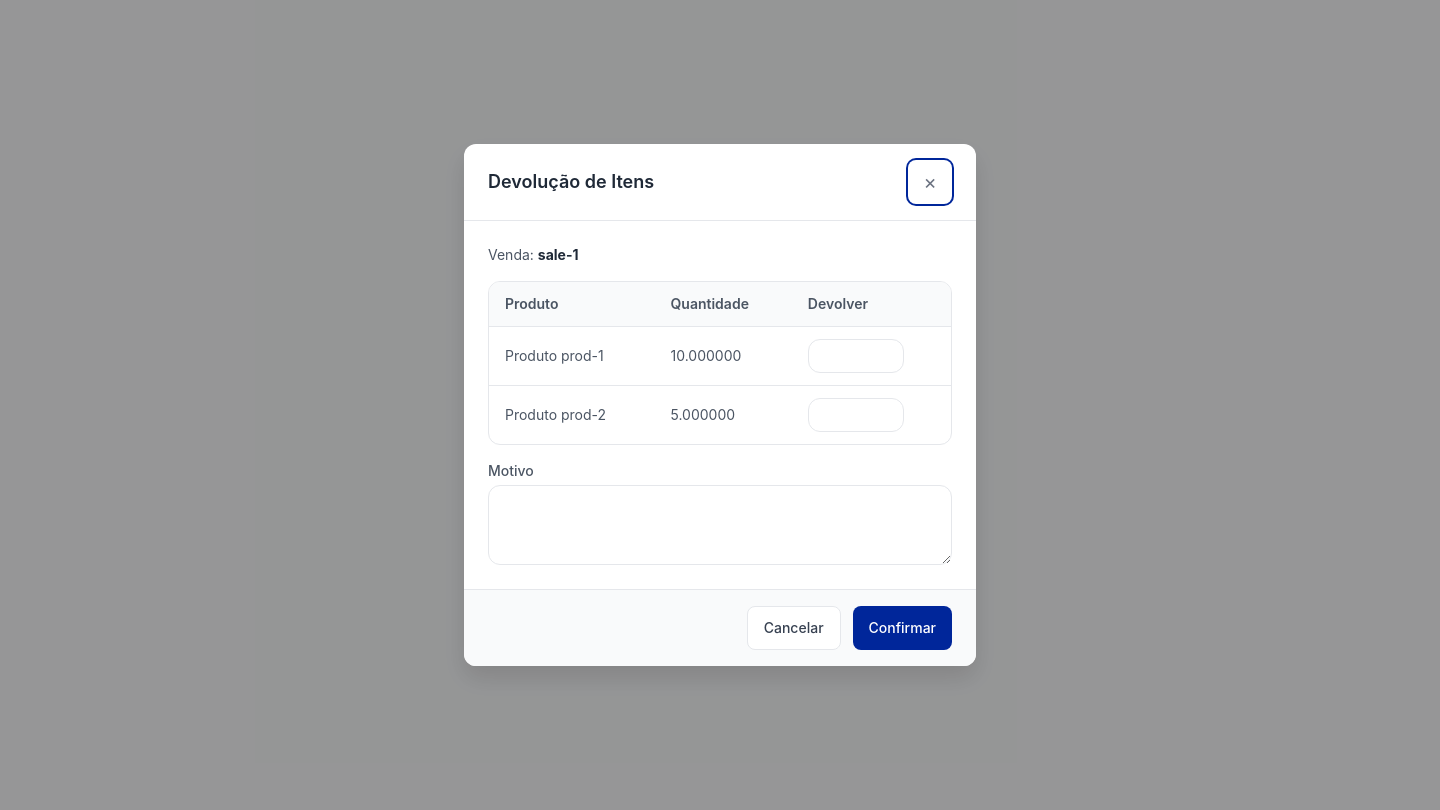
Scenario: ReturnDialog › shows consequence summary with computed values
The width and height of the screenshot is (1440, 810).
Expected: the text "Produto prod-1" is shown, [489, 326, 654, 386]
In the number field with test id "^return-qty-": (856, 356) [808, 339, 904, 373], type "3"
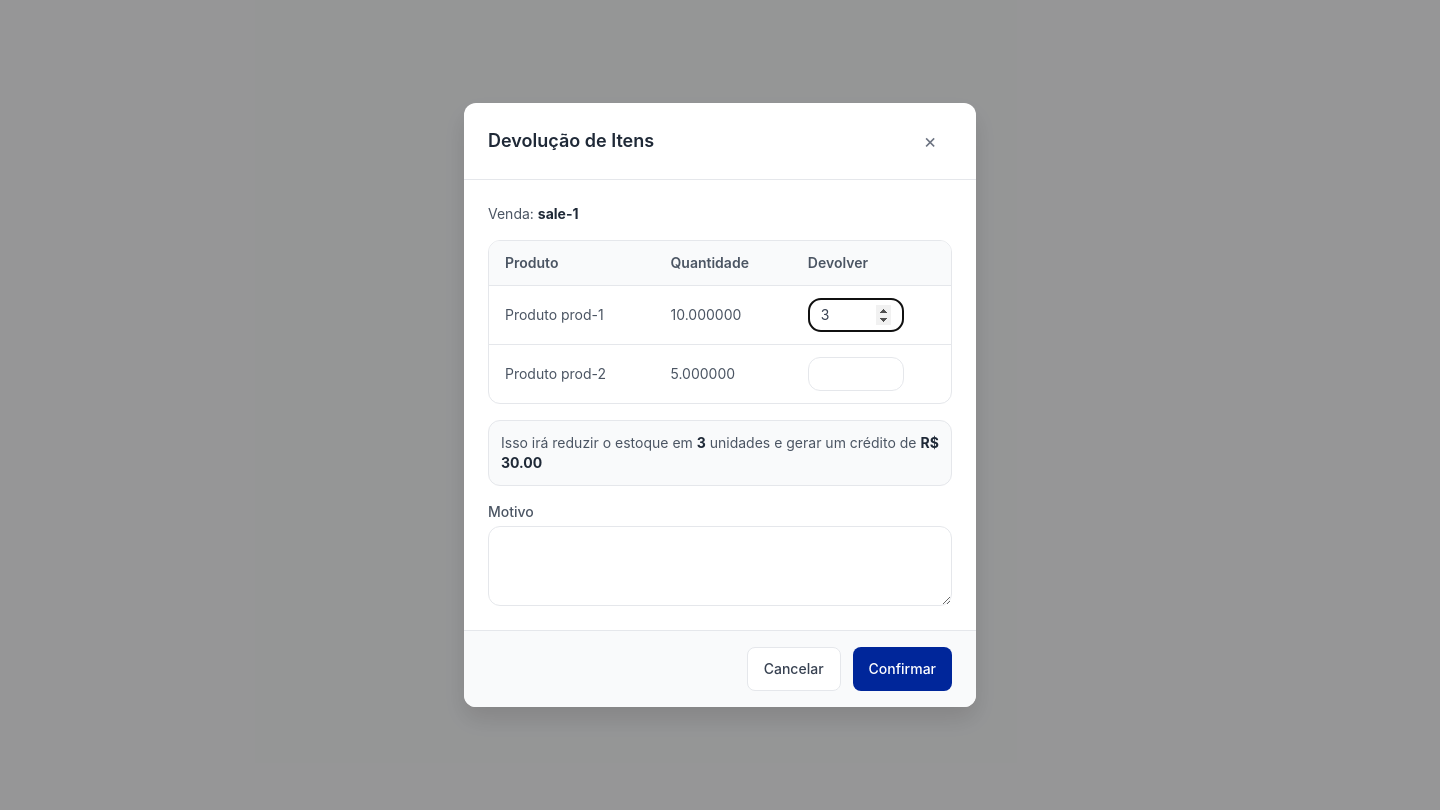
Expected: the element with test id "return-summary" shows "reduzir o estoque", [501, 434, 693, 451]
Expected: the element with test id "return-summary" shows "R$ 30.00", [488, 420, 952, 486]
